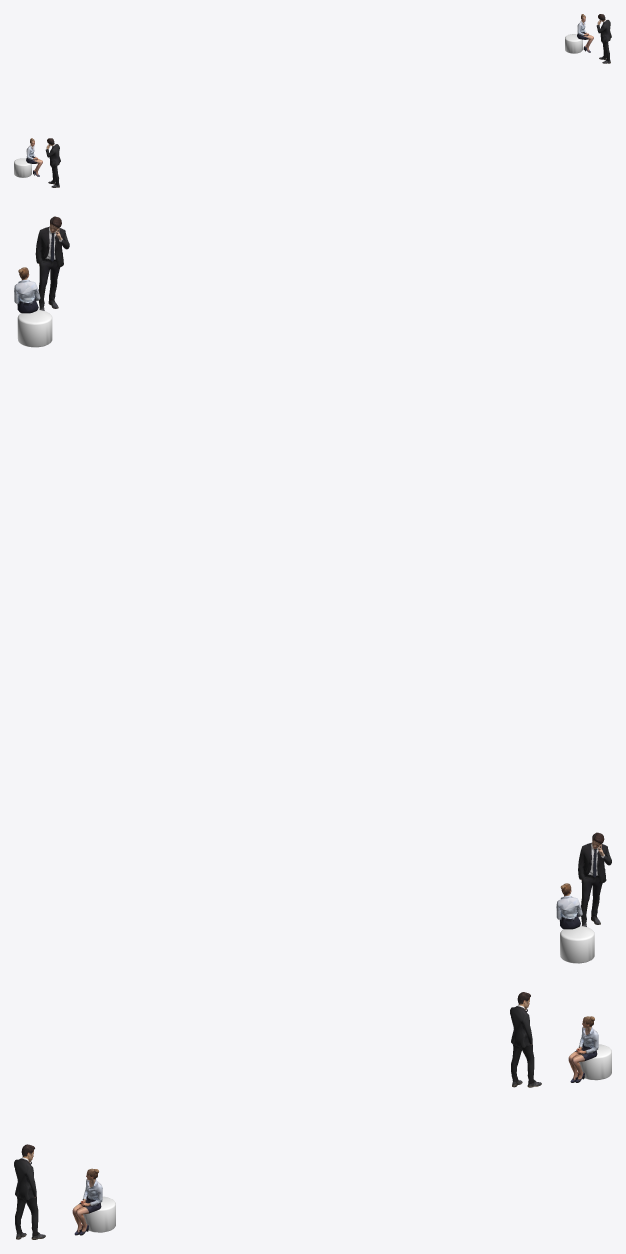
File: ren9.gltf
3 views of the same model, one above another, from view 1: azimuth 30°, elevation 25°; view 2: azimuth 150°, elevation 25°; view 3: azimuth 270°, elevation 25° (orthographic). The views are drawn at different scales.
Parts seen in each view (by area): view 1: Obj3d66-515503-2-857, Obj3d66-515503-2-858, Obj3d66-515503-26-810, Obj3d66-515503-26-809, Obj3d66-515503-25-376, Obj3d66-515503-25-377; view 2: Obj3d66-515503-2-857, Obj3d66-515503-2-858, Obj3d66-515503-26-809, Obj3d66-515503-26-810; view 3: Obj3d66-515503-2-858, Obj3d66-515503-2-857, Obj3d66-515503-25-376, Obj3d66-515503-25-377, Obj3d66-515503-26-810, Obj3d66-515503-26-809.
Part boxes in pixels (box(x1,y1,x2,y2)): Obj3d66-515503-2-857: box(596, 14, 611, 63); Obj3d66-515503-2-858: box(45, 138, 60, 187); Obj3d66-515503-26-810: box(14, 158, 31, 177); Obj3d66-515503-26-809: box(565, 34, 582, 53); Obj3d66-515503-25-376: box(577, 14, 593, 52); Obj3d66-515503-25-377: box(26, 138, 42, 176); Obj3d66-515503-2-857: box(35, 216, 69, 310); Obj3d66-515503-2-858: box(578, 832, 611, 926); Obj3d66-515503-26-809: box(17, 310, 52, 347); Obj3d66-515503-26-810: box(560, 926, 594, 963); Obj3d66-515503-2-858: box(510, 992, 541, 1087); Obj3d66-515503-2-857: box(14, 1144, 45, 1239); Obj3d66-515503-25-376: box(72, 1168, 102, 1235); Obj3d66-515503-25-377: box(568, 1016, 598, 1082); Obj3d66-515503-26-810: box(578, 1044, 611, 1080); Obj3d66-515503-26-809: box(83, 1196, 115, 1232).
Size of the model in its own units: 174 by 63.52 by 110.
6 materials, 4 textured.
